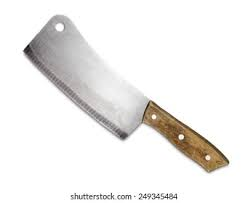knife: (21, 13, 230, 174)
